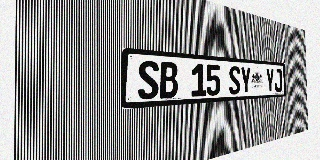1: (191, 63, 206, 97)
5: (206, 64, 220, 96)
B: (159, 61, 178, 99)
J: (274, 69, 282, 92)
S: (138, 60, 159, 100), (229, 66, 240, 95)
Y: (240, 66, 251, 94), (266, 68, 274, 93)
